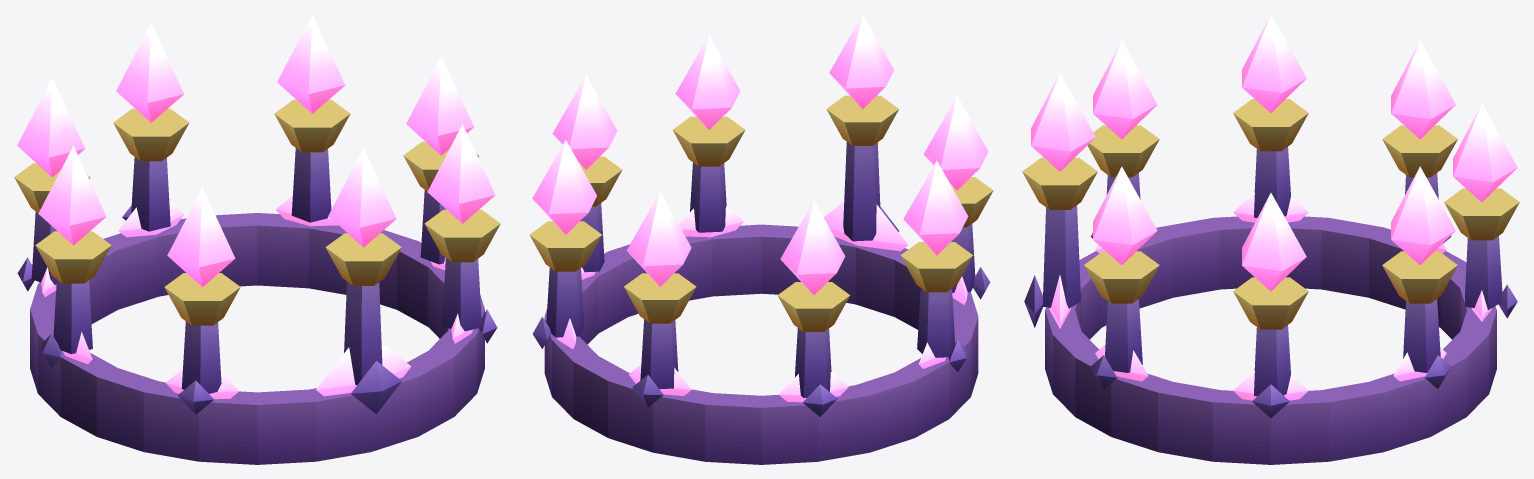
The model's file is crown_code.glb.
3 renders of one model, left to right at view 1: azimuth 30°, elevation 25°; view 2: azimuth 150°, elevation 25°; view 3: azimuth 270°, elevation 25°, orthographic. The views are drawn at different scales.
Parts seen in each view (by area): view 1: crown; view 2: crown; view 3: crown.
Part boxes in pixels (box(x1,y1,x2,y2)): crown: box(14, 14, 500, 464); crown: box(529, 14, 993, 464); crown: box(1022, 14, 1519, 464).
Bounding box in the file's own units: 1.17 × 0.7768 × 1.18.
Materials: 1 (1 with a texture image).
